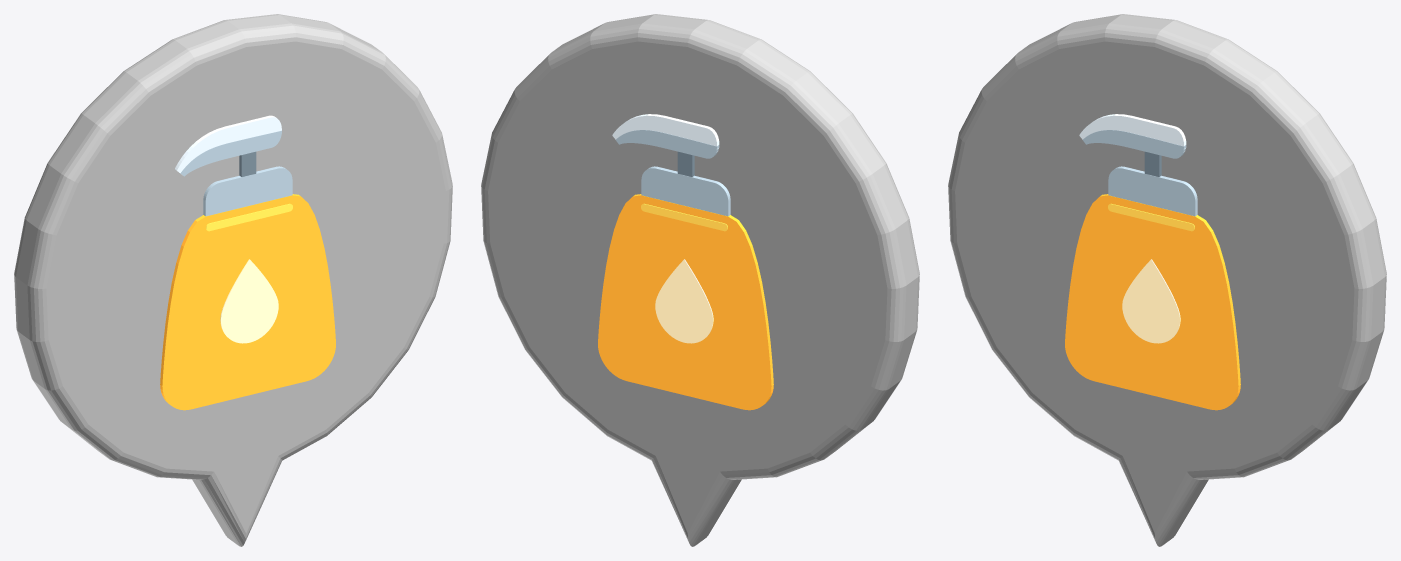
Rendered from lotion_bottle.glb.
The picture shows the model from 3 angles, left to right: view 1: azimuth 30°, elevation 25°; view 2: azimuth 150°, elevation 25°; view 3: azimuth 330°, elevation 25°; orthographic projection.
Parts seen in each view (by area): view 1: EmotionBubble; view 2: EmotionBubble; view 3: EmotionBubble.
Part boxes in pixels (x1,y1,x2,y2): EmotionBubble: (14, 14, 452, 546); EmotionBubble: (481, 14, 919, 546); EmotionBubble: (948, 14, 1386, 546).
Bounding box in the file's own units: 5.29 × 6.16 × 0.706.
